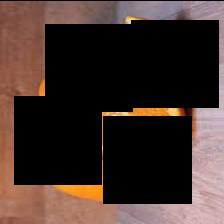orange: (63, 78, 186, 152), (43, 134, 166, 200), (100, 14, 171, 78), (39, 58, 107, 119)
